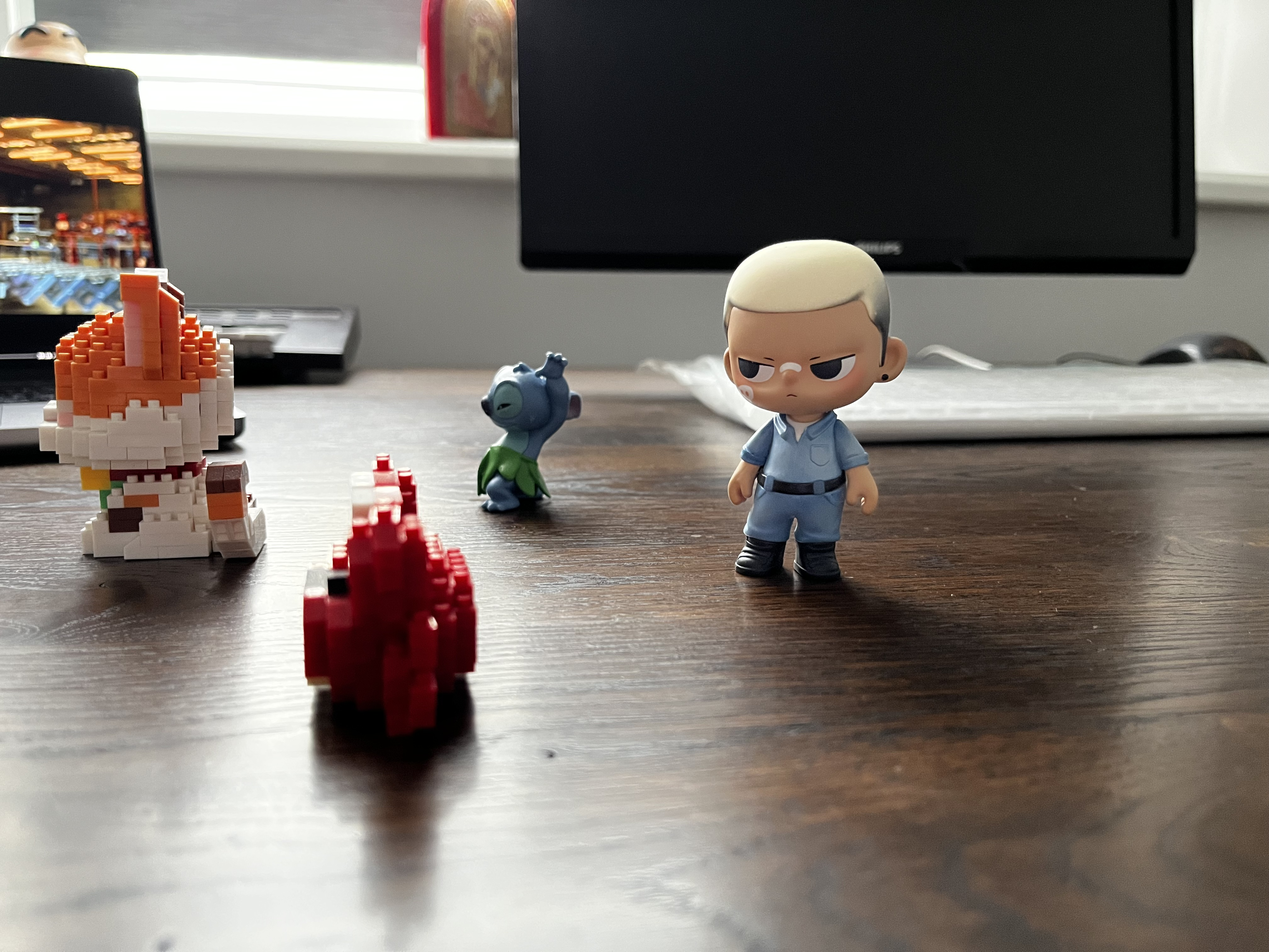cat: (39, 266, 276, 578)
crab: (298, 453, 502, 750)
stitch: (468, 337, 584, 535)
worker: (714, 233, 906, 596)
